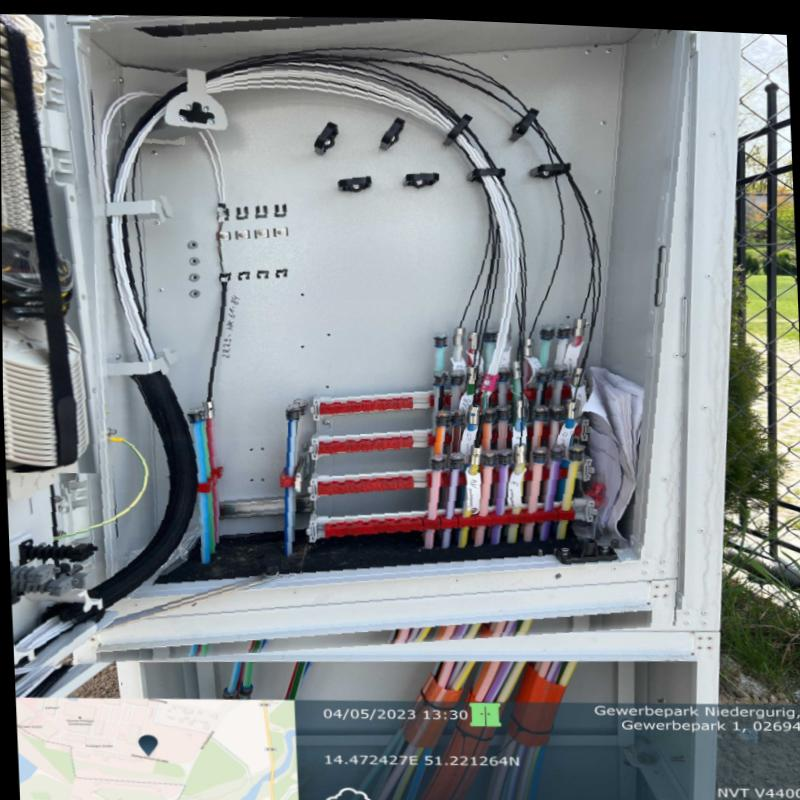NT-Gehause: (0, 0, 720, 695)
Spleiskassetten: (0, 14, 100, 472)
